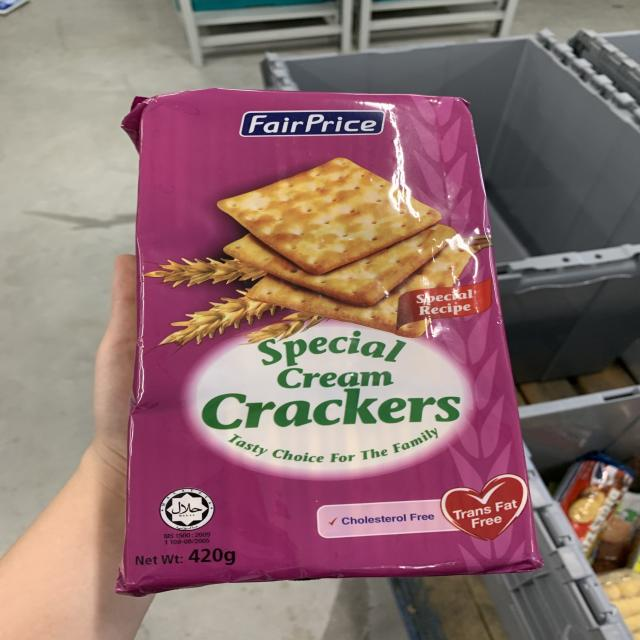object_name: (132, 89, 531, 575)
